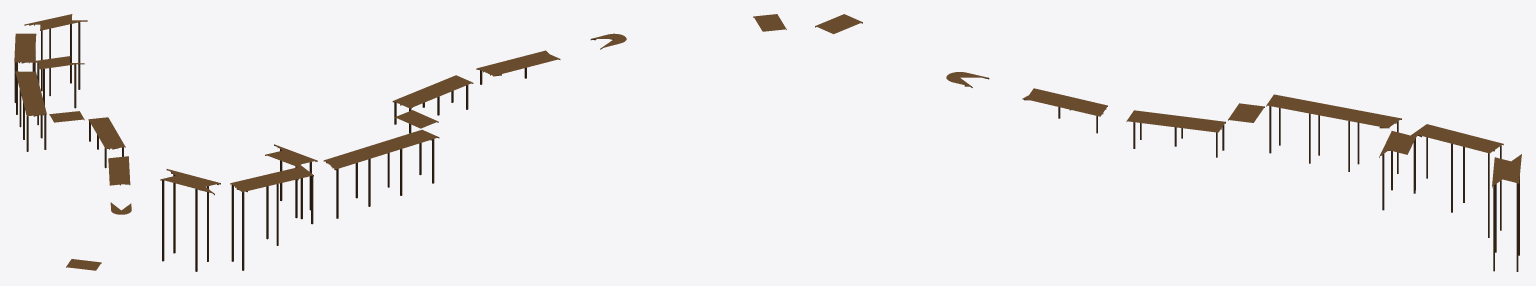
Rendered from published-manymouth-delta-manymouth-village-town.glb.
3 renders of one model, left to right at view 1: azimuth 30°, elevation 25°; view 2: azimuth 150°, elevation 25°; view 3: azimuth 270°, elevation 25°, orthographic. The views are drawn at different scales.
Parts seen in each view (by area): view 1: Walk_Manymouth_Village_town, Manymouth_Village_Piles_town, Manymouth_Village_Fascia_town; view 2: Walk_Manymouth_Village_town, Manymouth_Village_Piles_town; view 3: Walk_Manymouth_Village_town, Manymouth_Village_Piles_town.
Part boxes in pixels (left/top/right/bottom): Walk_Manymouth_Village_town: left=14, top=14, right=131, bottom=270; Manymouth_Village_Piles_town: left=14, top=22, right=123, bottom=168; Manymouth_Village_Fascia_town: left=16, top=14, right=129, bottom=267; Walk_Manymouth_Village_town: left=161, top=14, right=786, bottom=193; Manymouth_Village_Piles_town: left=162, top=67, right=526, bottom=271; Walk_Manymouth_Village_town: left=815, top=14, right=1521, bottom=186; Manymouth_Village_Piles_town: left=1058, top=106, right=1519, bottom=271.
Size of the model in its own units: 37.84 by 9.42 by 65.71.
